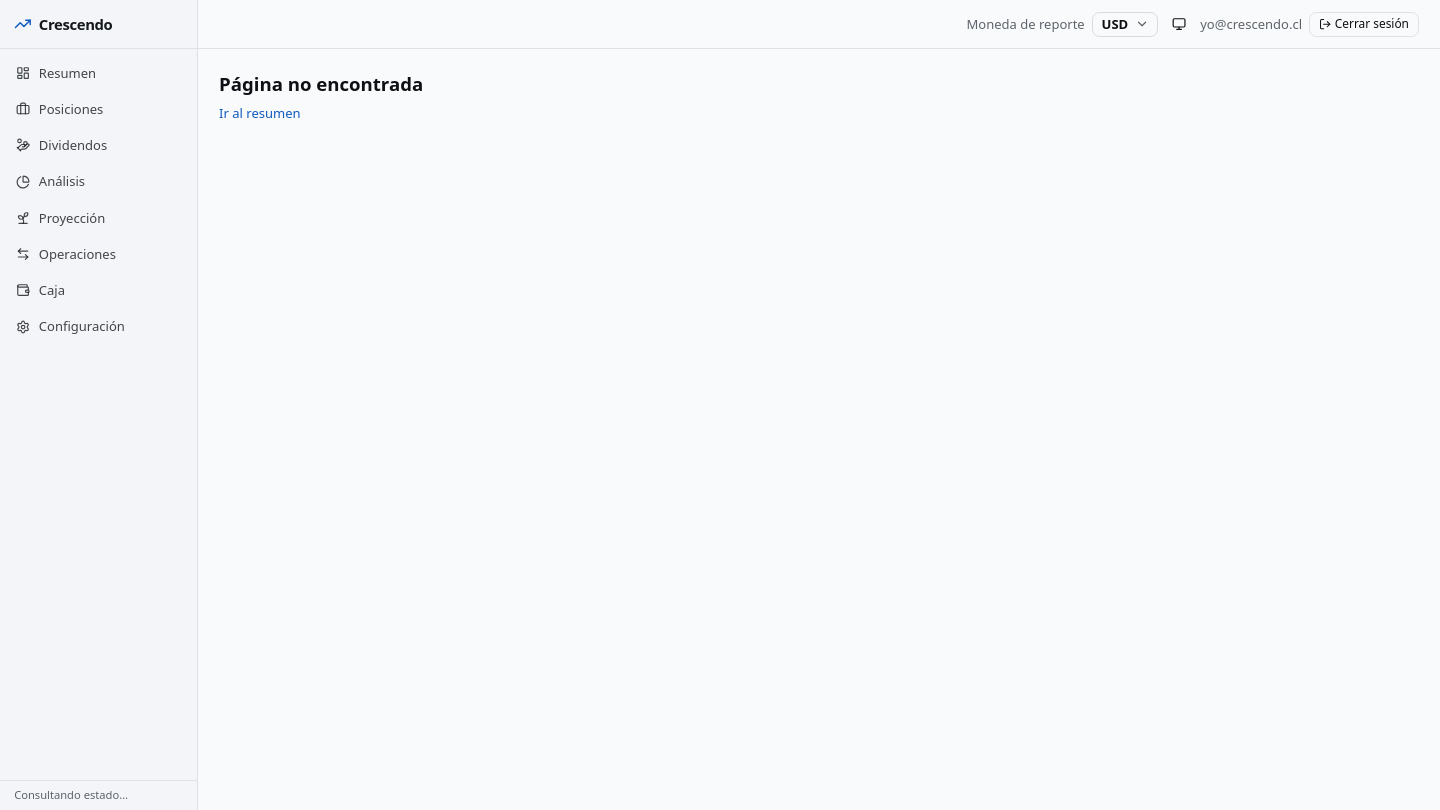
Test case: App › un 401 durante el uso vuelve a Login
This screenshot has width=1440, height=810.
Click the button "Cerrar sesión" at (1364,24), box [1309, 12, 1419, 37]
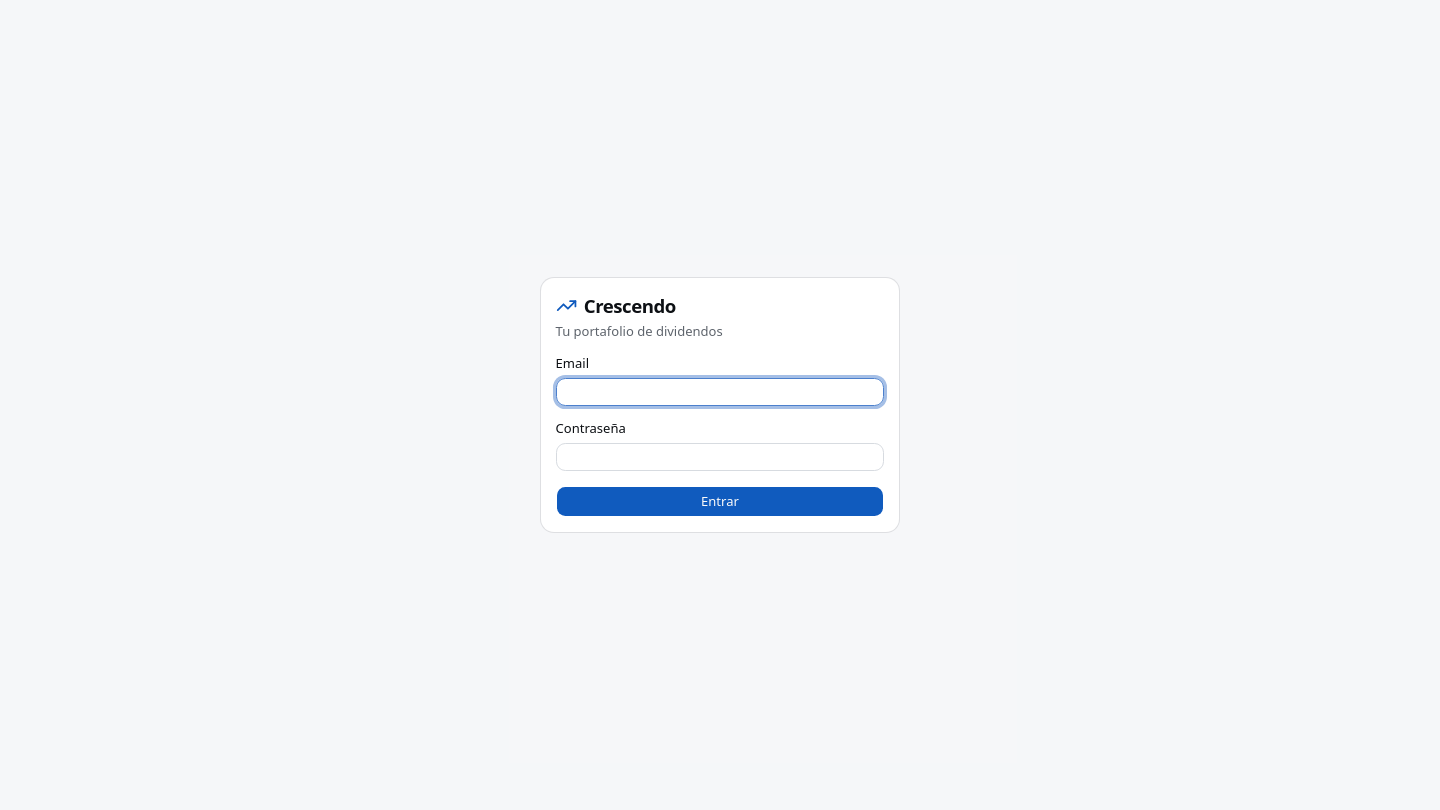
Now the password field labelled "Contraseña" is shown, box [556, 443, 884, 472]
